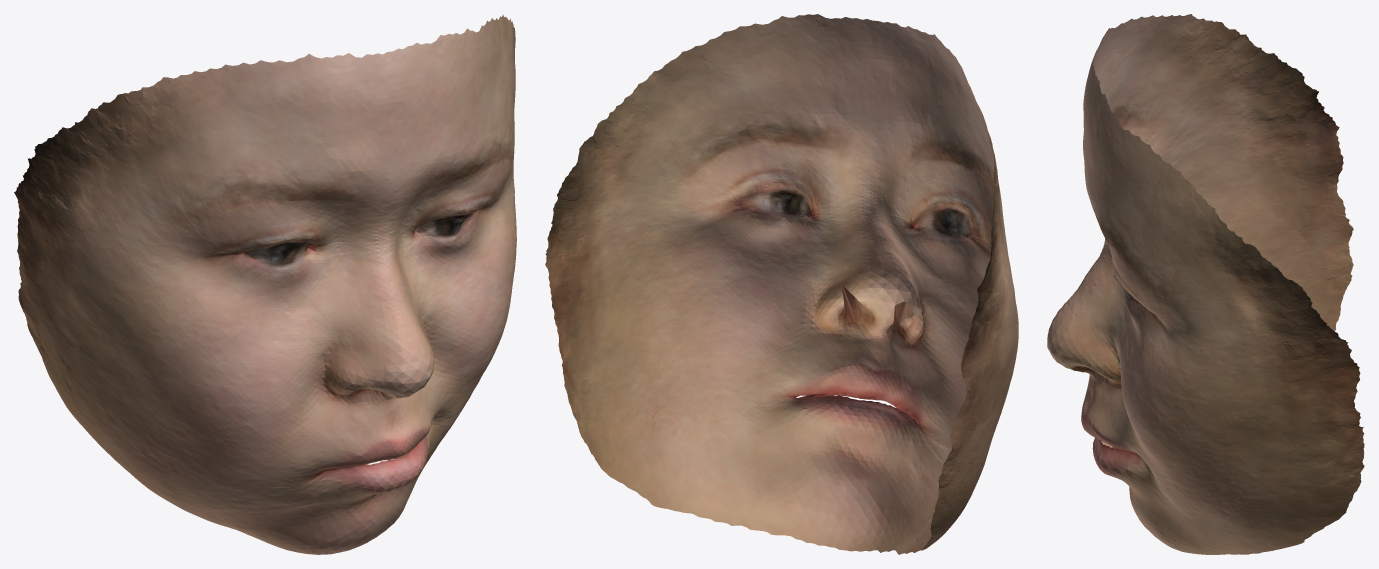
File: 1_fsmm_face.obj
The picture shows the model from 3 angles, left to right: view 1: azimuth 30°, elevation 25°; view 2: azimuth 150°, elevation 25°; view 3: azimuth 270°, elevation 25°; orthographic projection. The views are drawn at different scales.
Size of the model in its own units: 1.48 by 1.67 by 0.9886.
